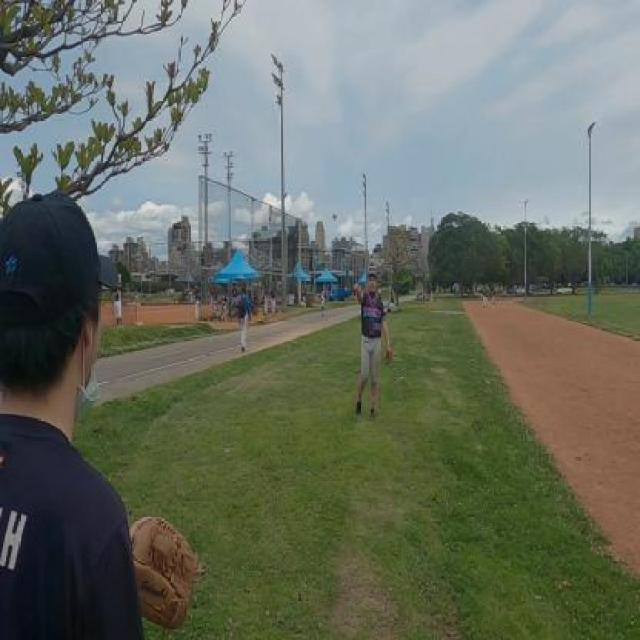baseball: (332, 212, 337, 220)
